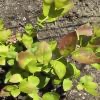Blueberry leaf: (9, 72, 41, 95), (14, 51, 42, 74), (58, 29, 79, 58), (69, 46, 99, 66), (78, 75, 99, 99), (35, 38, 53, 64), (49, 59, 67, 79), (41, 0, 56, 19), (0, 26, 12, 43), (62, 75, 73, 93), (21, 34, 34, 48), (41, 92, 59, 99)
